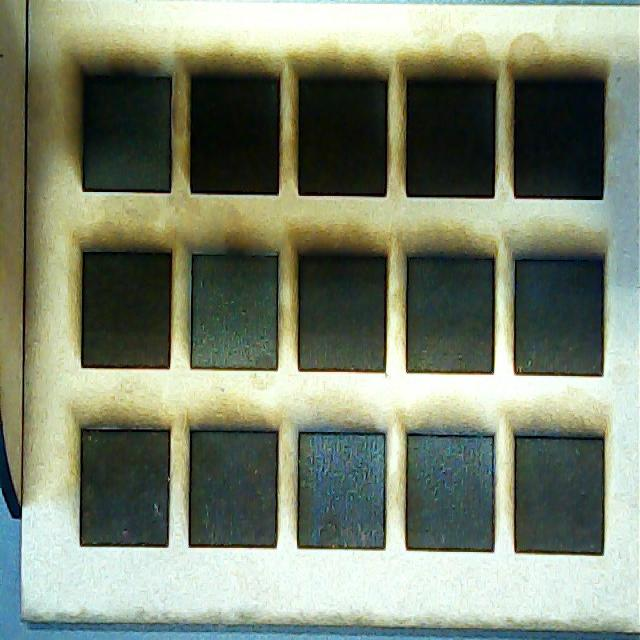nothing: (510, 62, 612, 206), (508, 243, 612, 382), (401, 61, 502, 203), (291, 60, 394, 198), (292, 242, 394, 381), (508, 422, 613, 557), (401, 239, 500, 382), (400, 423, 499, 556), (293, 423, 391, 555)
